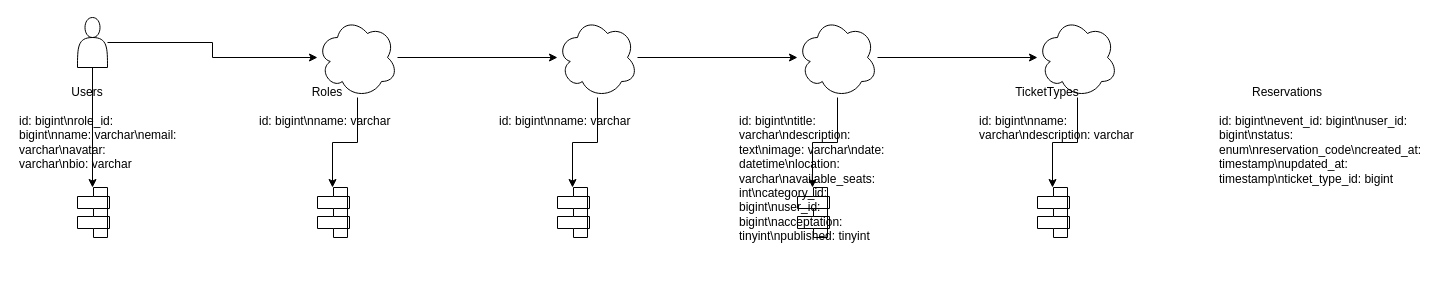
The diagram is 1438 pixels wide and 305 high, and some of its shapes have lost their labels. Each missing label, with the centre of its shape:
"Categories" goes at (x=597, y=57).
"Events" goes at (x=837, y=57).
